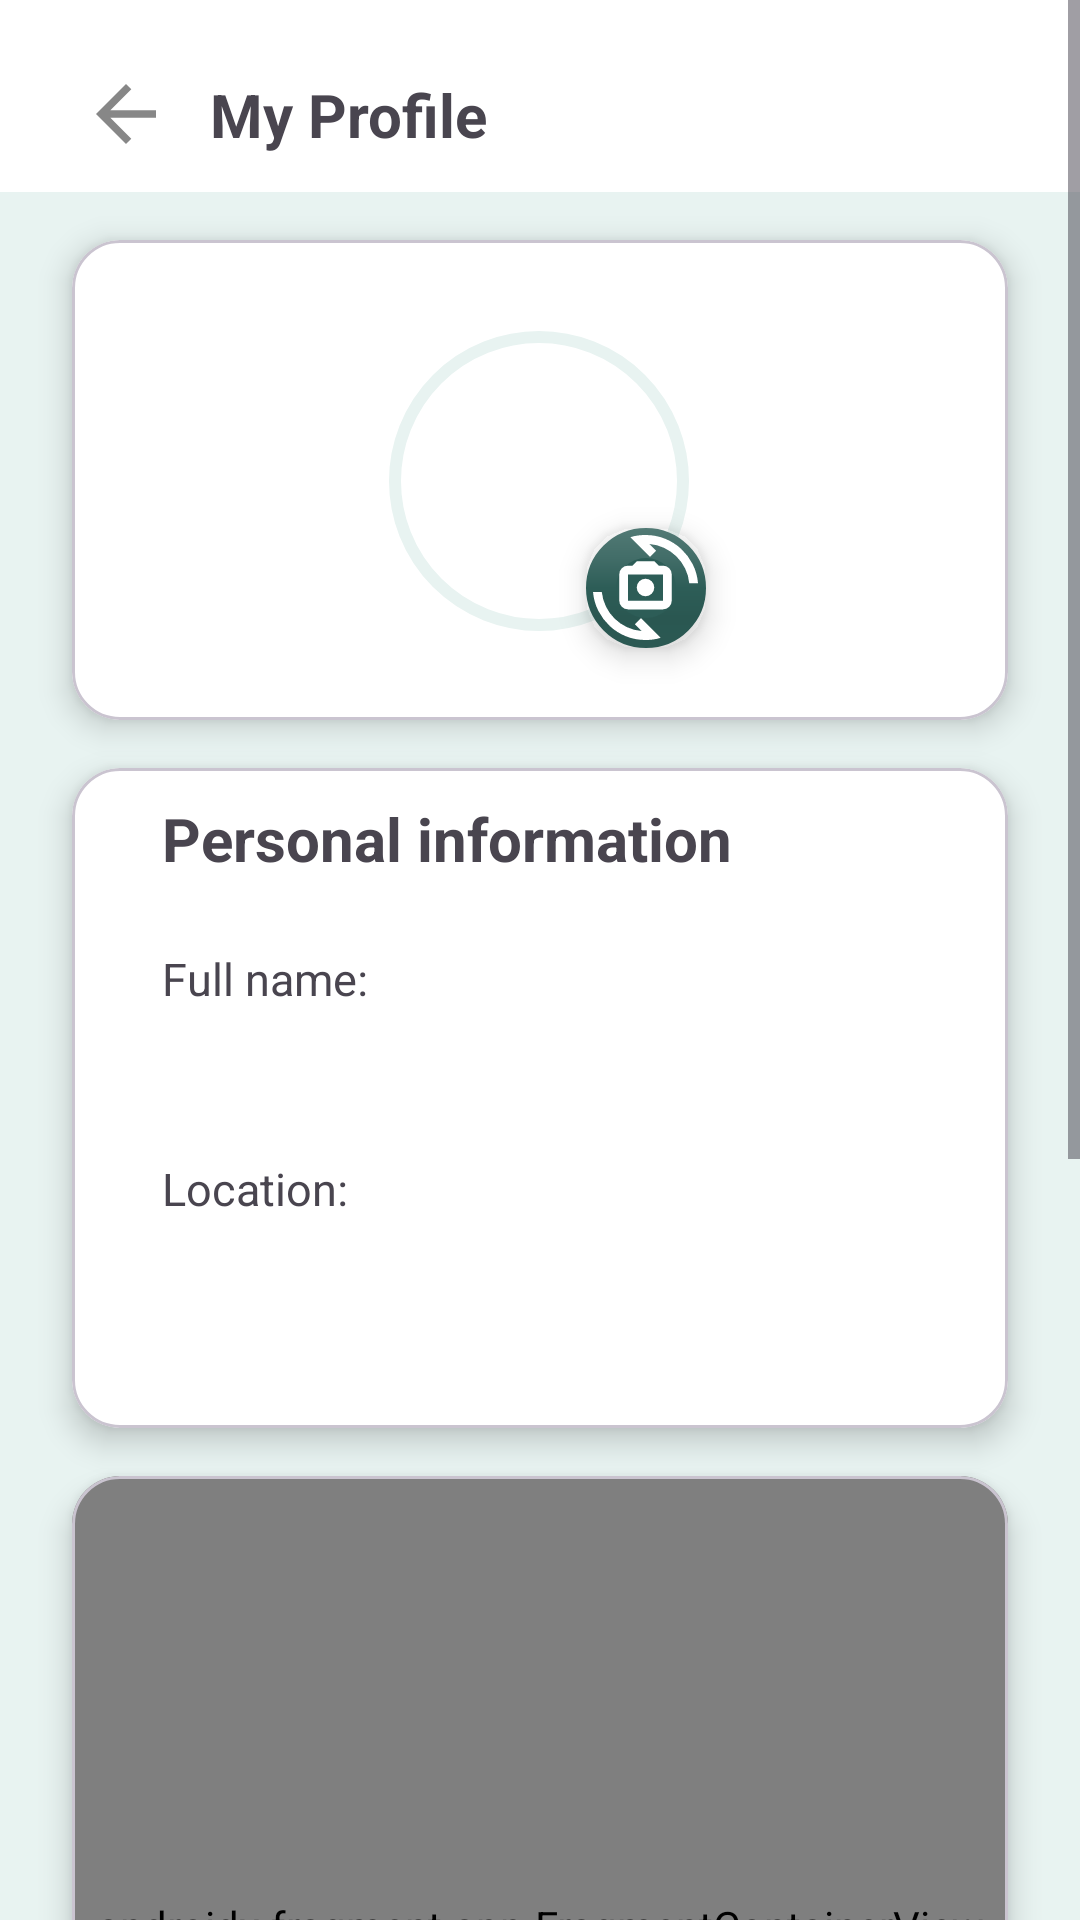

Screen size 1080px×1920px. Icon name, then its center in pixels as (x,y):
Back: (126,114)
camera: (640,585)
